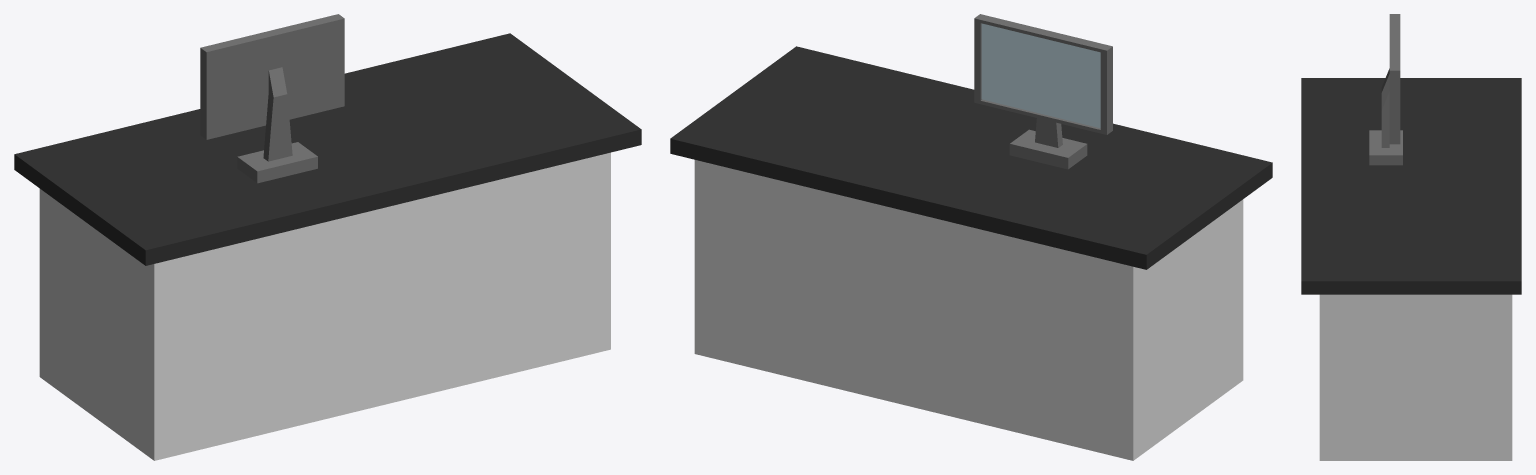
The model's file is reception.fbx.
The picture shows the model from 3 angles, left to right: view 1: azimuth 30°, elevation 25°; view 2: azimuth 150°, elevation 25°; view 3: azimuth 270°, elevation 25°; orthographic projection. The views are drawn at different scales.
Visible parts, largest first — view 1: Table, Computer; view 2: Table, Computer; view 3: Table, Computer.
Part boxes in pixels (x1,y1,x2,y2): Table: (14,33,641,460); Computer: (200,14,344,183); Table: (670,46,1272,460); Computer: (974,14,1112,169); Table: (1301,78,1521,460); Computer: (1369,14,1402,165).
Size of the model in its own units: 499 by 342 by 229.
